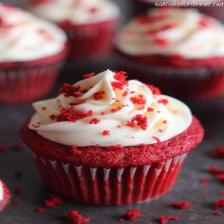red: (21, 117, 204, 206), (0, 33, 67, 104), (55, 16, 121, 59), (117, 46, 224, 69), (190, 70, 223, 100)
